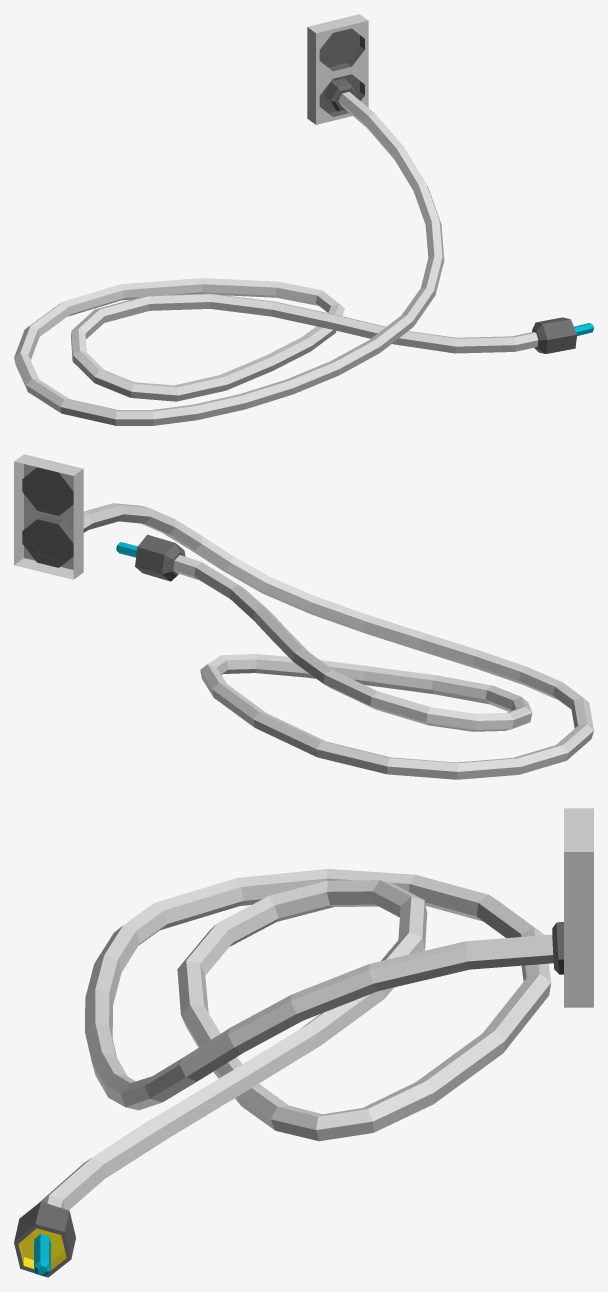
Rendered from ElectroCabel.fbx.
3 renders of one model, top to bottom at view 1: azimuth 30°, elevation 25°; view 2: azimuth 150°, elevation 25°; view 3: azimuth 270°, elevation 25°, orthographic. The views are drawn at different scales.
Visible parts, largest first — view 1: ElectroCabel, ElectroBox; view 2: ElectroCabel, ElectroBox; view 3: ElectroCabel, ElectroBox.
Boxes of the visible parts, left/top/right/bottom form: ElectroCabel: left=14, top=78, right=593, bottom=425; ElectroBox: left=307, top=14, right=368, bottom=124; ElectroCabel: left=36, top=503, right=593, bottom=779; ElectroBox: left=14, top=454, right=83, bottom=579; ElectroCabel: left=14, top=869, right=563, bottom=1277; ElectroBox: left=564, top=808, right=593, bottom=1007.
Bounding box in the file's own units: 107 × 48.34 × 65.57.
